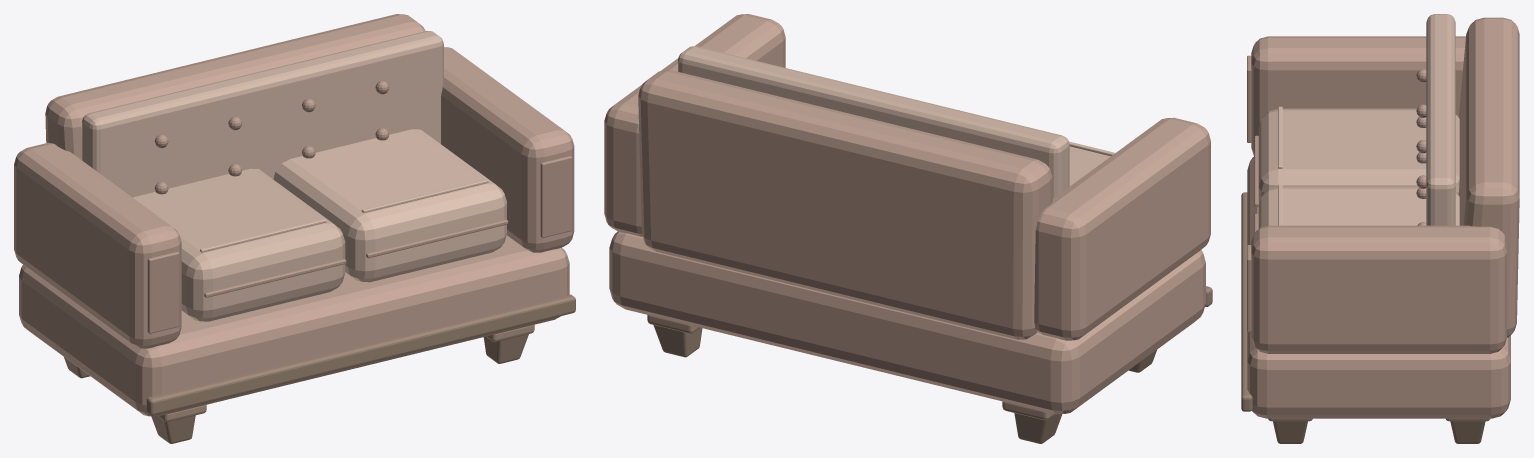
Rendered from couch_02.fbx.
3 views of the same model, side by side, from view 1: azimuth 30°, elevation 25°; view 2: azimuth 150°, elevation 25°; view 3: azimuth 270°, elevation 25° (orthographic). The views are drawn at different scales.
Visible parts, largest first — view 1: MainBase, BackFaceUpholstery, SeatCushion_1, LeftChunkyArm, SeatCushion_0, RightChunkyArm, BackrestBody, LowerFrameTrim, RightArmFrontSeam, LeftArmFrontSeam, Leg_1_0, Leg_0_0 (+4 smaller); view 2: BackrestBody, MainBase, LeftChunkyArm, BackFaceUpholstery, RightChunkyArm, Leg_1_1, Leg_0_1, SeatCushion_0; view 3: RightChunkyArm, MainBase, LeftChunkyArm, BackrestBody, SeatCushion_0, SeatCushion_1, BackFaceUpholstery, LowerFrameTrim, Leg_1_1, Leg_1_0, LeftArmFrontSeam, RightArmFrontSeam (+2 smaller).
Boxes of the visible parts, left/top/right/bottom form: MainBase: left=19, top=235, right=569, bottom=416; BackFaceUpholstery: left=82, top=31, right=443, bottom=197; SeatCushion_1: left=273, top=129, right=506, bottom=282; LeftChunkyArm: left=14, top=142, right=181, bottom=348; SeatCushion_0: left=133, top=168, right=345, bottom=321; RightChunkyArm: left=441, top=47, right=574, bottom=252; BackrestBody: left=45, top=14, right=425, bottom=159; LowerFrameTrim: left=146, top=294, right=575, bottom=415; RightArmFrontSeam: left=540, top=156, right=572, bottom=237; LeftArmFrontSeam: left=147, top=251, right=179, bottom=333; Leg_1_0: left=483, top=334, right=528, bottom=363; Leg_0_0: left=151, top=415, right=195, bottom=443; BackrestBody: left=638, top=70, right=1052, bottom=339; MainBase: left=609, top=231, right=1205, bottom=414; LeftChunkyArm: left=1034, top=117, right=1210, bottom=340; BackFaceUpholstery: left=678, top=46, right=1069, bottom=198; RightChunkyArm: left=604, top=14, right=785, bottom=236; Leg_1_1: left=653, top=325, right=702, bottom=357; Leg_0_1: left=1014, top=413, right=1062, bottom=443; SeatCushion_0: left=1069, top=146, right=1110, bottom=186; RightChunkyArm: left=1251, top=225, right=1506, bottom=353; MainBase: left=1247, top=156, right=1510, bottom=418; LeftChunkyArm: left=1251, top=36, right=1465, bottom=155; BackrestBody: left=1458, top=17, right=1519, bottom=337; SeatCushion_0: left=1258, top=108, right=1459, bottom=204; SeatCushion_1: left=1258, top=186, right=1459, bottom=228; BackFaceUpholstery: left=1426, top=14, right=1455, bottom=225; LowerFrameTrim: left=1241, top=192, right=1252, bottom=411; Leg_1_1: left=1450, top=421, right=1485, bottom=443; Leg_1_0: left=1273, top=421, right=1307, bottom=443; LeftArmFrontSeam: left=1247, top=55, right=1251, bottom=142; RightArmFrontSeam: left=1247, top=245, right=1251, bottom=332.
Bounding box in the file's own units: 156 × 89.74 × 85.75.
